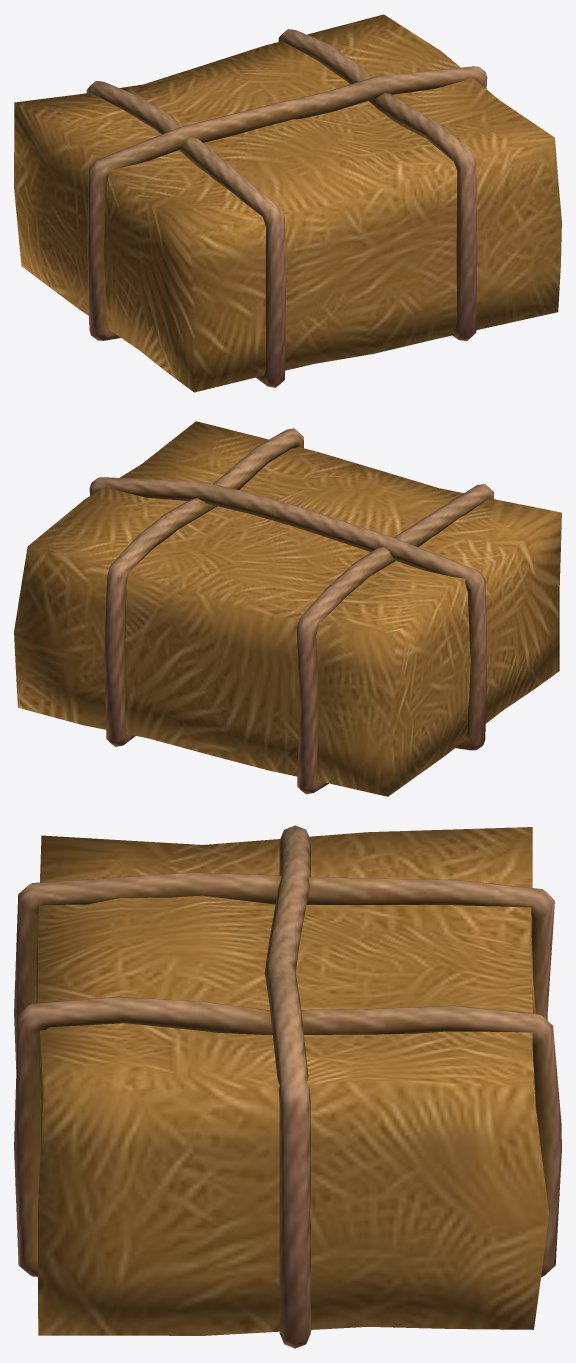
Rendered from SM_Hay.glb.
The picture shows the model from 3 angles, top to bottom: view 1: azimuth 30°, elevation 25°; view 2: azimuth 150°, elevation 25°; view 3: azimuth 270°, elevation 25°; orthographic projection. The views are drawn at different scales.
Visible parts, largest first — view 1: SM_Hay; view 2: SM_Hay; view 3: SM_Hay.
Boxes of the visible parts, <box> form: SM_Hay: <box>14,14,561,392</box>; SM_Hay: <box>14,421,561,796</box>; SM_Hay: <box>14,825,561,1348</box>.
Bounding box in the file's own units: 0.8448 × 0.42 × 0.7028.
Materials: 1 (1 with a texture image).
